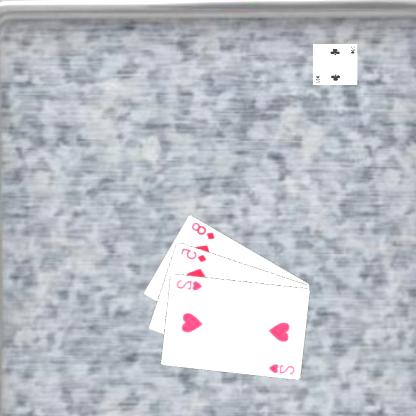2H: (267, 360, 297, 376), (175, 277, 205, 291)
5D: (180, 245, 210, 263)
8D: (191, 219, 218, 241)
